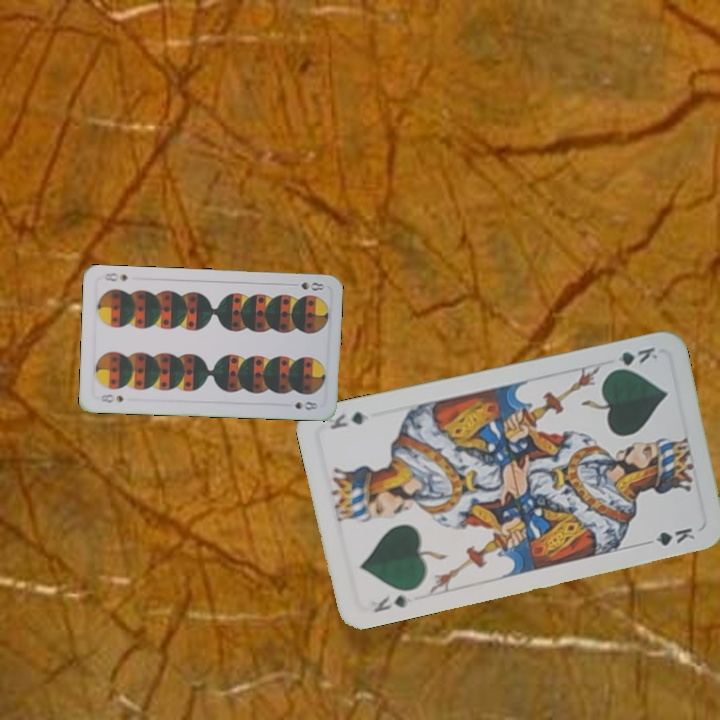GK: (605, 343, 660, 374), (369, 591, 415, 615)
S8: (297, 278, 327, 293), (97, 390, 126, 405)
